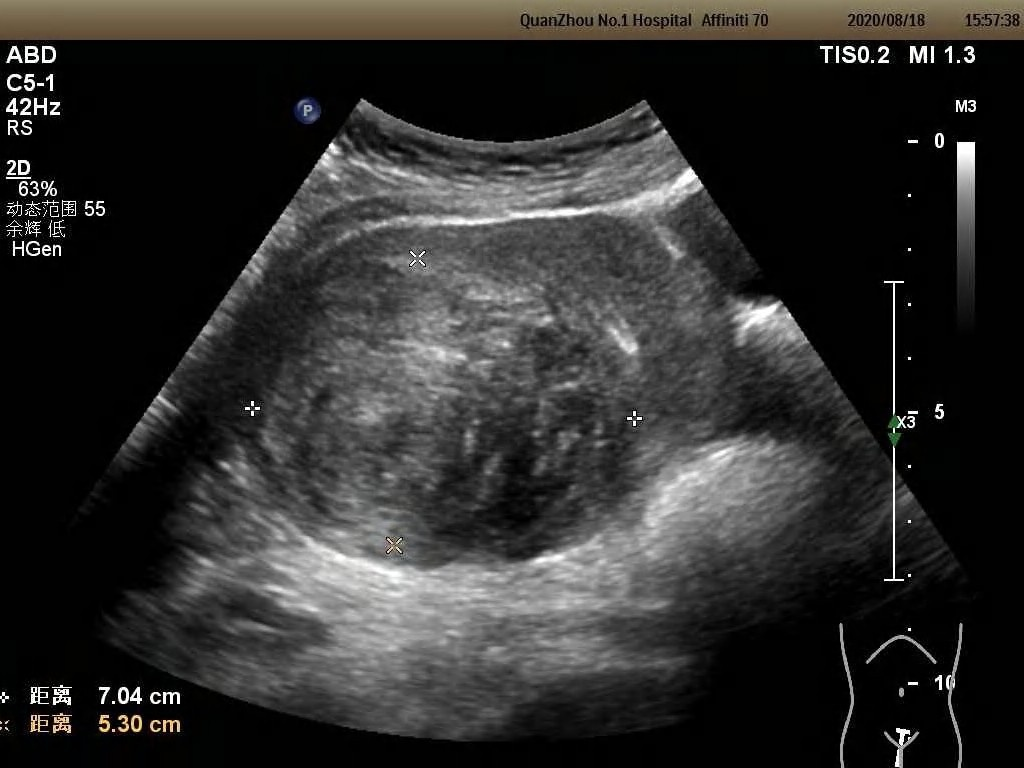肌瘤: (251, 253, 636, 556)
